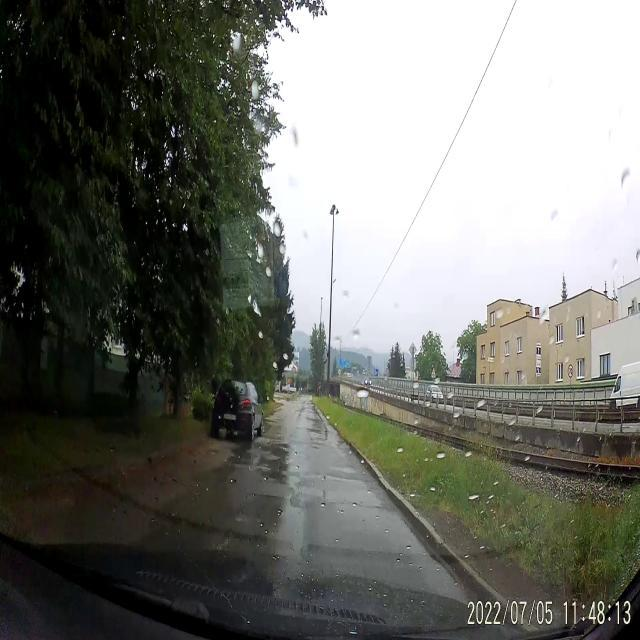Pothole: (323, 461, 361, 484), (250, 487, 288, 507)
